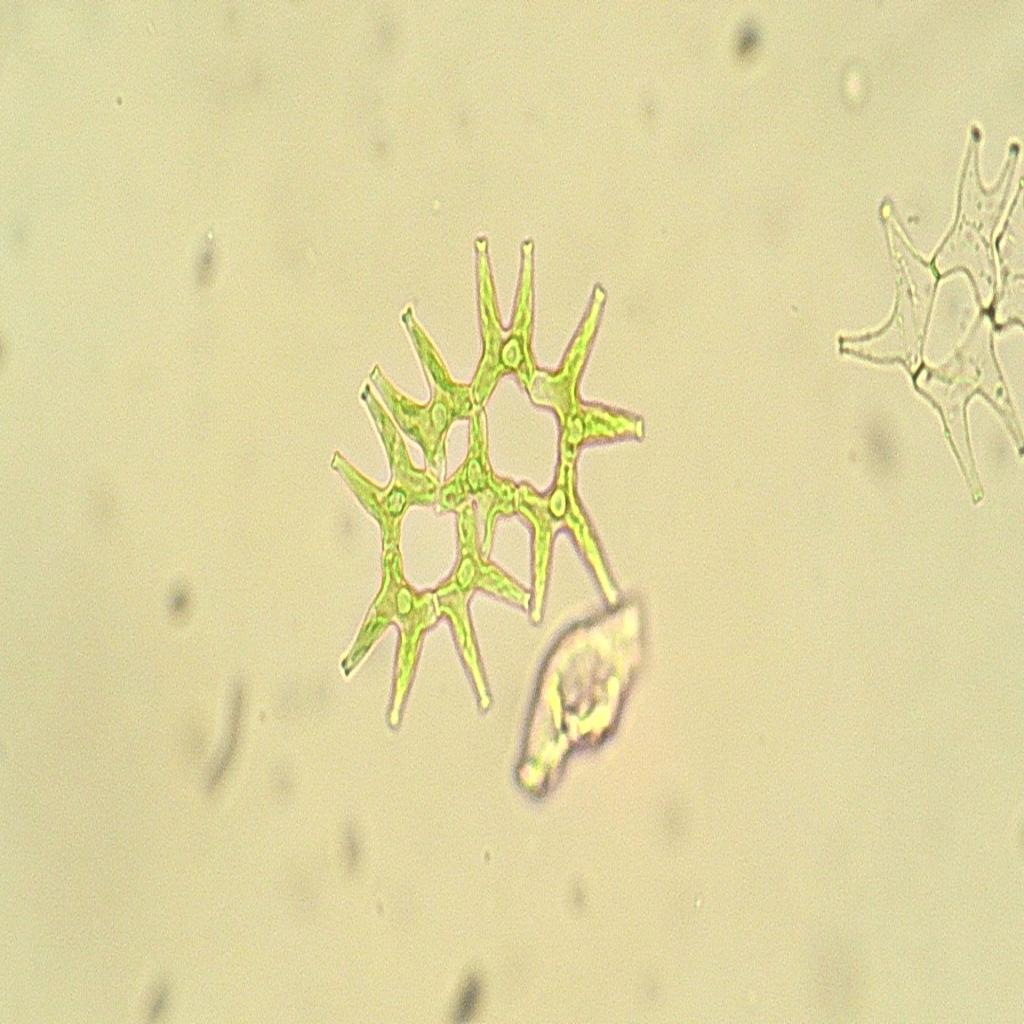Pediastrum_1TH: (317, 205, 660, 752)
